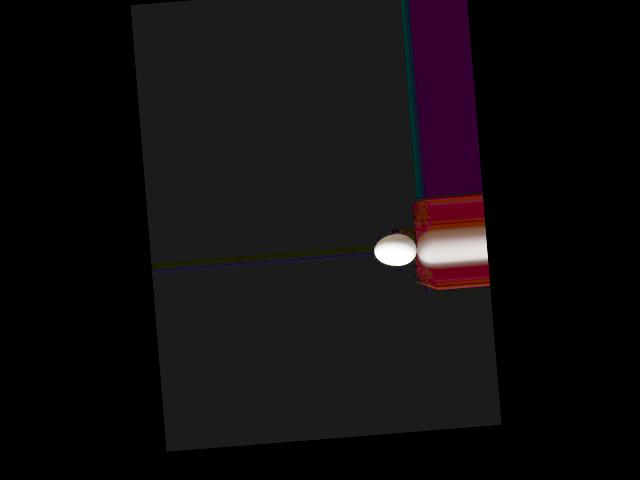egg: (373, 233, 418, 267)
